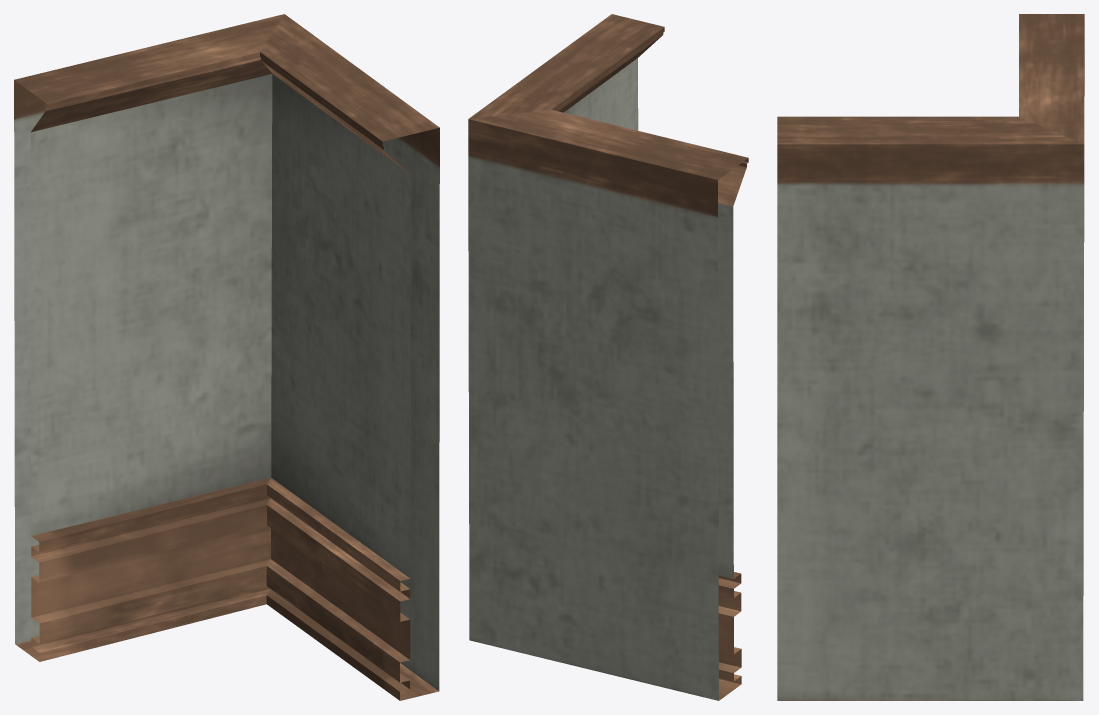
Rendered from wall_corner.fbx.
3 views of the same model, side by side, from view 1: azimuth 30°, elevation 25°; view 2: azimuth 150°, elevation 25°; view 3: azimuth 270°, elevation 25° (orthographic). The views are drawn at different scales.
Visible parts, largest first — view 1: wall_corner; view 2: wall_corner; view 3: wall_corner.
Part boxes in pixels (x1,y1,x2,y2): wall_corner: (14, 14, 439, 700); wall_corner: (468, 14, 748, 700); wall_corner: (777, 14, 1084, 700).
Size of the model in its own units: 142 by 282 by 141.
